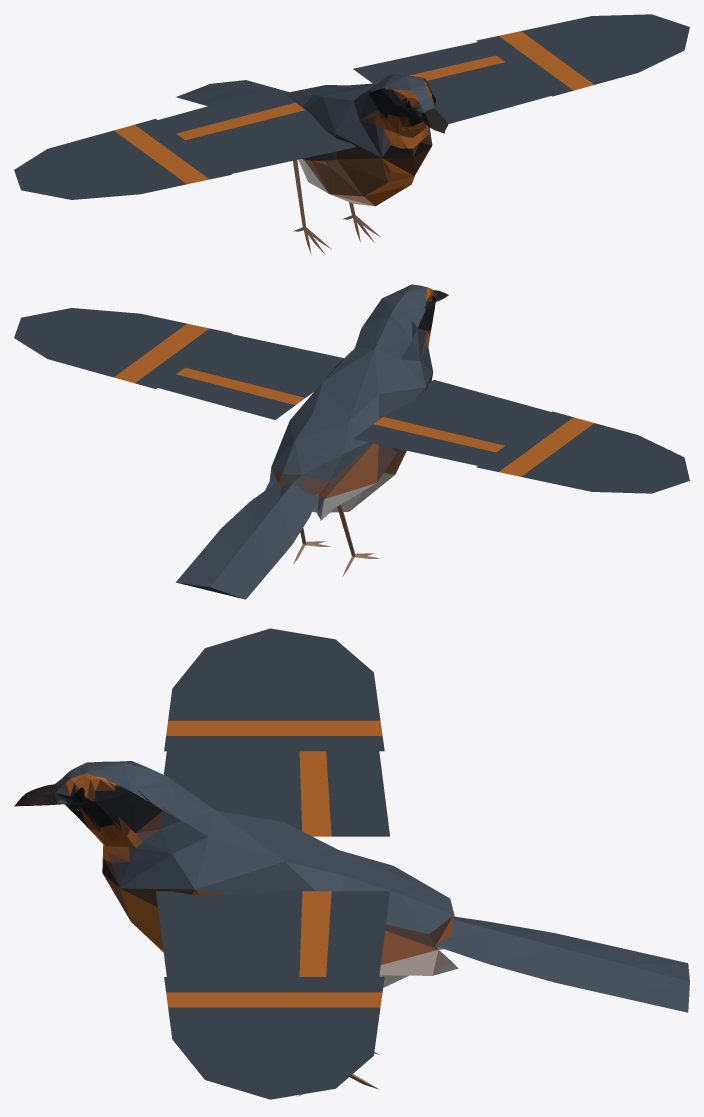
Rendered from varied_thrush.glb.
3 views of the same model, one above another, from view 1: azimuth 30°, elevation 25°; view 2: azimuth 150°, elevation 25°; view 3: azimuth 270°, elevation 25° (orthographic). The views are drawn at different scales.
Parts seen in each view (by area): view 1: lod0; view 2: lod0; view 3: lod0.
Part boxes in pixels (<box>): lod0: <box>14,14,689,254</box>; lod0: <box>14,284,689,599</box>; lod0: <box>14,628,689,1099</box>.
Size of what is drawn, in the model's own units: 0.38 by 0.1163 by 0.2304.
